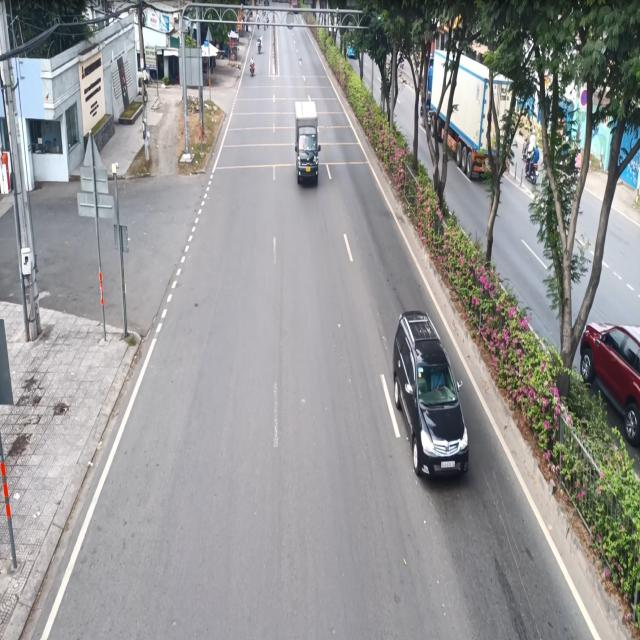car: (387, 296, 471, 488)
truck: (292, 95, 320, 187)
